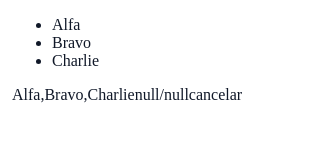
Test case: useSortable — pointer › aborts on Escape mid-drag
This screenshot has width=332, height=160.
Step 1. Press the mouse on the option "Alfa" → {"x": 66, "y": 24}, box [52, 16, 80, 33]
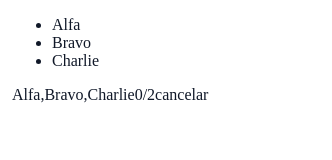
Step 2. Press Escape
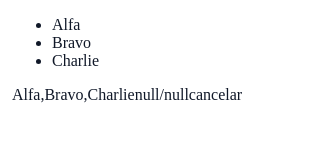
Now the text with test id "estado" reads "null/null", box [135, 86, 189, 103]
